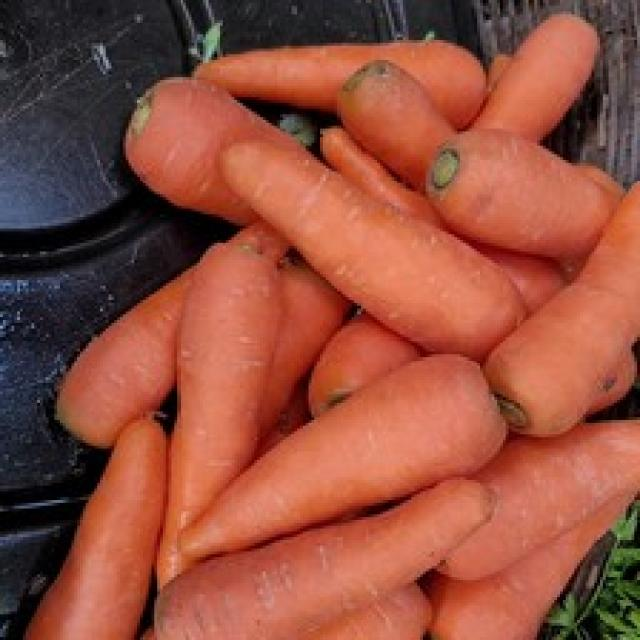Fresh_Carrot: (129, 52, 640, 640), (110, 364, 521, 554), (487, 183, 640, 452)
